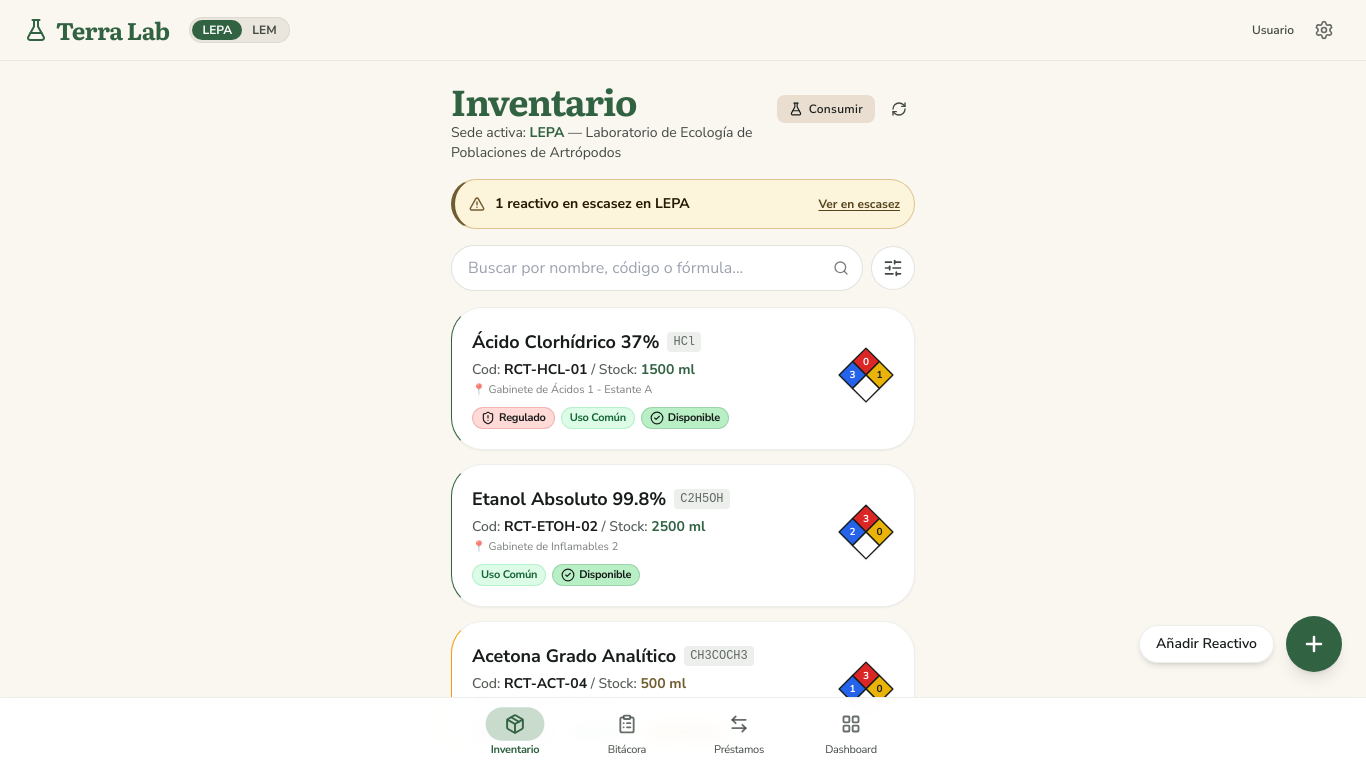
Scenario: InventoryView Component › toggles filter chips when clicking the filter button
Expected: the heading "Ácido Clorhídrico 37%" is shown, [472, 328, 659, 356]
Click the button named "filtros de búsqueda" at (893, 268), box [871, 246, 915, 290]
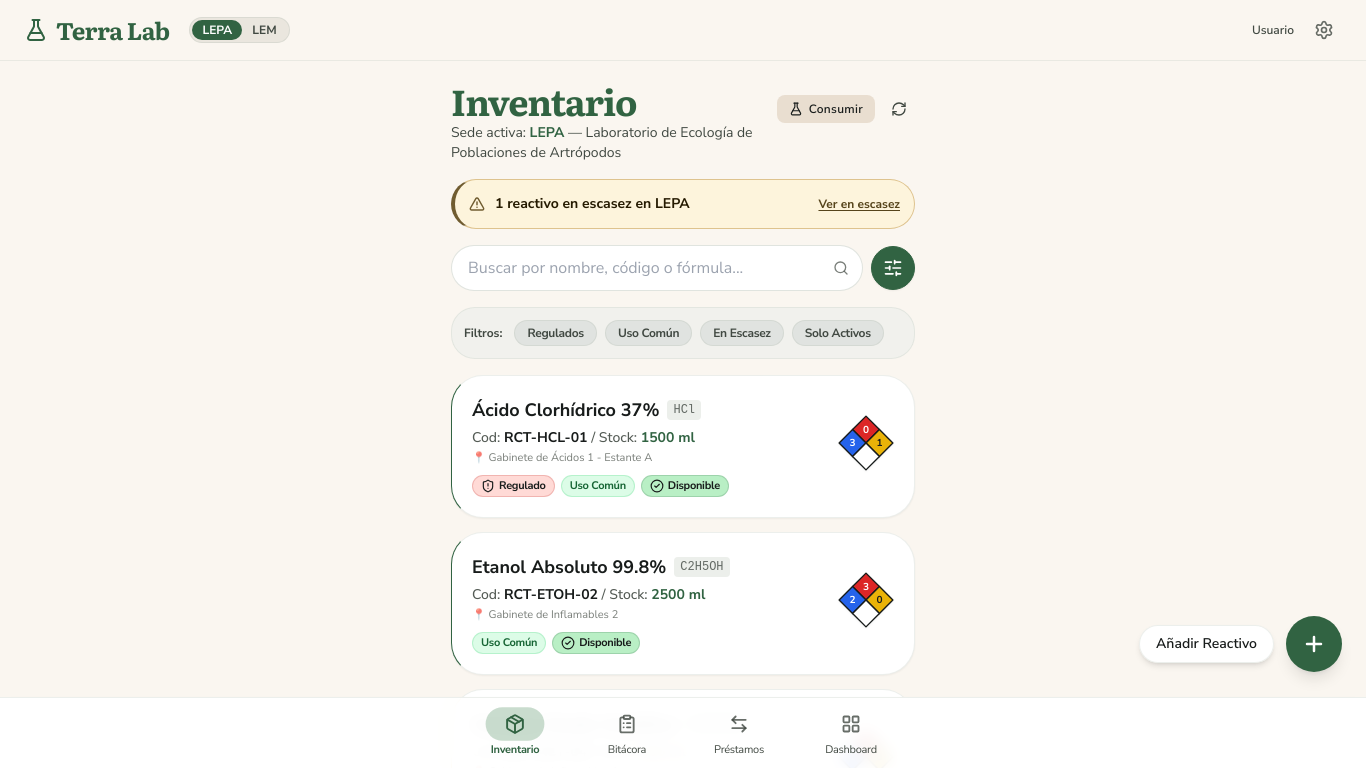
Now the text "Filtros:" is shown, box [464, 325, 502, 341]
Now the button with aria-label "filtro solo regulados" is shown, box [514, 320, 597, 346]
Now the button with aria-label "filtro solo uso común" is shown, box [605, 320, 692, 346]
